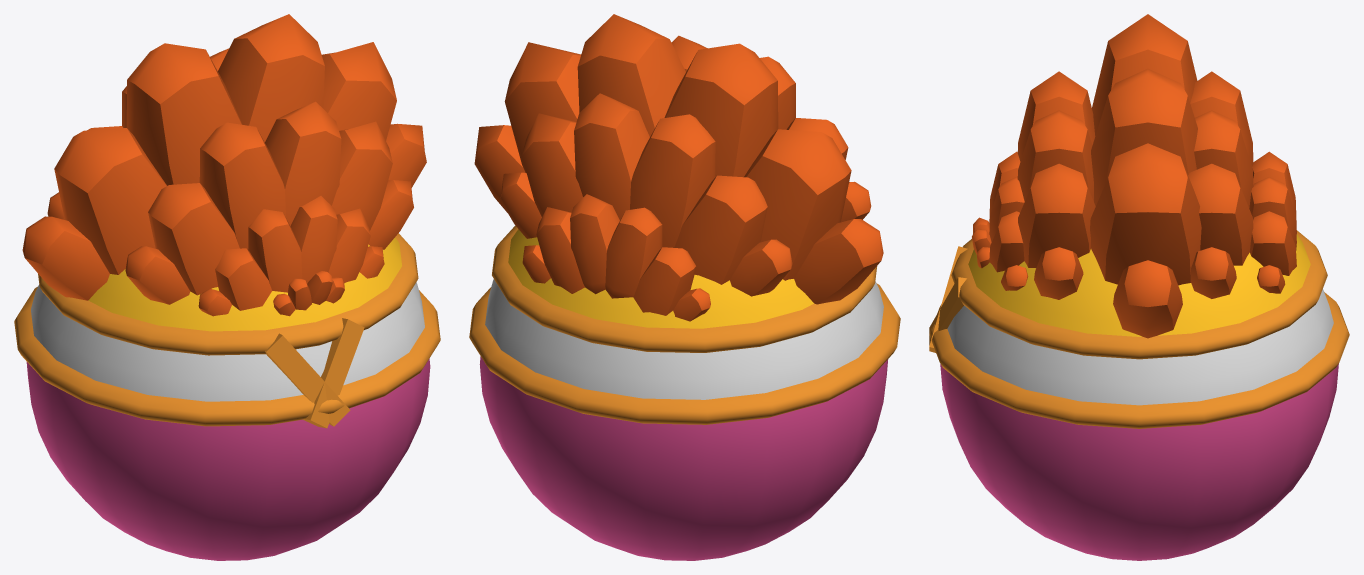
The model's file is bolitas1.fbx.
3 views of the same model, side by side, from view 1: azimuth 30°, elevation 25°; view 2: azimuth 150°, elevation 25°; view 3: azimuth 270°, elevation 25° (orthographic). The views are drawn at different scales.
Parts seen in each view (by area): view 1: pasted__pSphere6, pasted__pasted__pasted__pCube8, pasted__pasted__pTorus3, pasted__pasted__pCube8, pasted__pCube8, pasted__pTorus3, pasted__pasted__pSphere5, pasted__pasted__pasted__pCube8.001, pasted__pasted__pCube8.001, pasted__pasted__pasted__pasted__pCube8, pasted__pasted__pasted__pasted__pasted__pasted__pCube8, pasted__pasted__pasted__pasted__pasted__pCube8.001 (+13 smaller); view 2: pasted__pSphere6, pasted__pasted__pTorus3, pasted__pTorus3, pasted__pasted__pCube8, pasted__pCube8, pasted__pasted__pasted__pCube8, pasted__pasted__pSphere5, pasted__pasted__pasted__pasted__pCube8.002, pasted__pasted__pasted__pCube8.002, pasted__pasted__pasted__pasted__pasted__pCube8.002, pasted__pasted__pasted__pasted__pCube8, pasted__pasted__pasted__pasted__pasted__pasted__pCube8 (+12 smaller); view 3: pasted__pSphere6, pasted__pasted__pasted__pCube8, pasted__pasted__pasted__pasted__pCube8, pasted__pasted__pTorus3, pasted__pasted__pSphere5, pasted__pTorus3, pasted__pasted__pasted__pasted__pasted__pCube8.001, pasted__pasted__pCube8, pasted__pasted__pasted__pasted__pasted__pasted__pasted__pCu. (×3), pasted__pasted__pasted__pasted__pasted__pasted__pCube8.002, pasted__pasted__pasted__pasted__pasted__pCube8, pasted__pasted__pasted__pasted__pasted__pCube8.002 (+10 smaller).
Boxes of the visible parts, x1,y1,x2,y2 form: pasted__pSphere6: (26,282,430,560); pasted__pasted__pasted__pCube8: (218,14,341,225); pasted__pasted__pTorus3: (14,286,440,426); pasted__pasted__pCube8: (126,43,242,185); pasted__pCube8: (54,128,166,274); pasted__pTorus3: (38,233,418,355); pasted__pasted__pSphere5: (88,237,401,331); pasted__pasted__pasted__pCube8.001: (199,122,285,249); pasted__pasted__pCube8.001: (148,183,239,295); pasted__pasted__pasted__pasted__pCube8: (321,42,396,140); pasted__pasted__pasted__pasted__pasted__pasted__pCube8: (22,216,109,300); pasted__pasted__pasted__pasted__pasted__pCube8.001: (332,121,392,230); pasted__pSphere6: (479,279,888,560); pasted__pasted__pTorus3: (469,283,900,424); pasted__pTorus3: (492,225,877,352); pasted__pasted__pCube8: (664,43,778,177); pasted__pCube8: (744,129,851,280); pasted__pasted__pasted__pCube8: (577,14,707,136); pasted__pasted__pSphere5: (508,229,813,328); pasted__pasted__pasted__pasted__pCube8.002: (630,114,715,247); pasted__pasted__pasted__pCube8.002: (674,175,767,284); pasted__pasted__pasted__pasted__pasted__pCube8.002: (574,93,649,220); pasted__pasted__pasted__pasted__pCube8: (504,42,581,172); pasted__pasted__pasted__pasted__pasted__pasted__pCube8: (794,219,883,304); pasted__pSphere6: (940,289,1338,560); pasted__pasted__pasted__pCube8: (1017,68,1197,205); pasted__pasted__pasted__pasted__pCube8: (1090,143,1201,285); pasted__pasted__pTorus3: (929,292,1349,428); pasted__pasted__pSphere5: (968,234,1310,336); pasted__pTorus3: (951,230,1327,359); pasted__pasted__pasted__pasted__pasted__pCube8.001: (1018,163,1095,267); pasted__pasted__pCube8: (1092,14,1197,135); pasted__pasted__pasted__pasted__pasted__pasted__pasted__pCu. (×3): (1001,211,1296,298); pasted__pasted__pasted__pasted__pasted__pasted__pCube8.002: (1188,163,1253,265); pasted__pasted__pasted__pasted__pasted__pCube8: (1113,260,1182,338); pasted__pasted__pasted__pasted__pasted__pCube8.002: (1194,110,1253,207).
Size of the model in its own units: 227 by 276 by 211.
